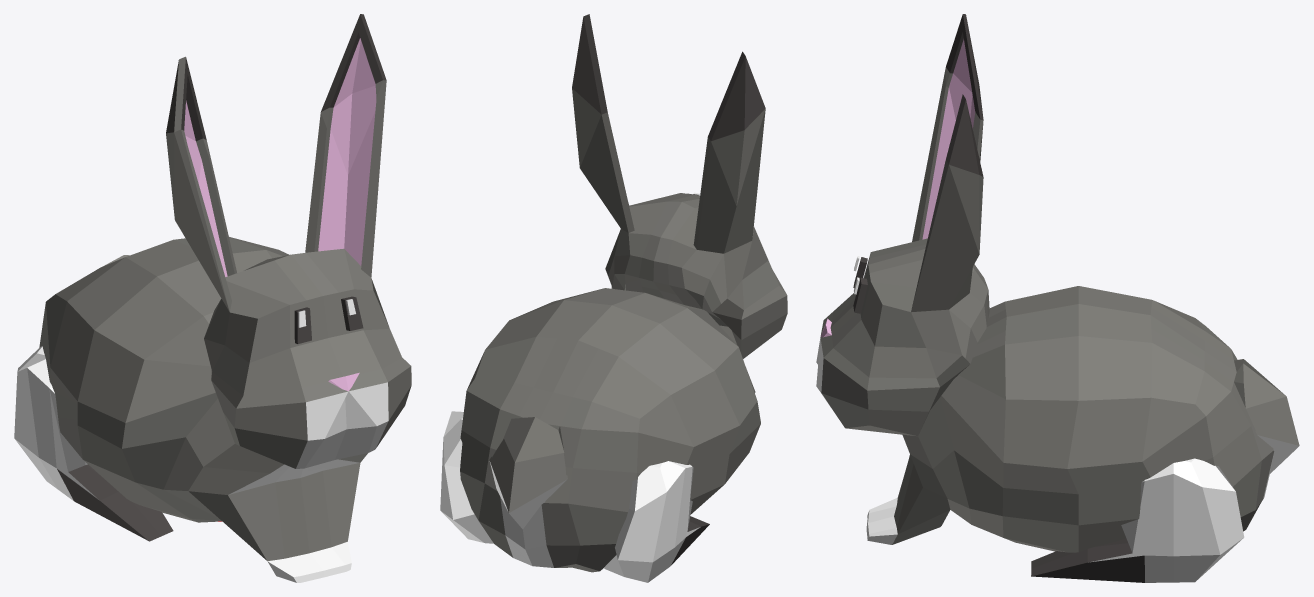
Rendered from GriTavsan.fbx.
3 renders of one model, left to right at view 1: azimuth 30°, elevation 25°; view 2: azimuth 150°, elevation 25°; view 3: azimuth 270°, elevation 25°, orthographic. The views are drawn at different scales.
Visible parts, largest first — view 1: GriTavsan; view 2: GriTavsan; view 3: GriTavsan.
Boxes of the visible parts, bbox=[...] form: GriTavsan: bbox=[14, 14, 411, 582]; GriTavsan: bbox=[440, 14, 787, 582]; GriTavsan: bbox=[816, 14, 1299, 582].
Size of the model in its own units: 0.2906 by 0.512 by 0.4621.
